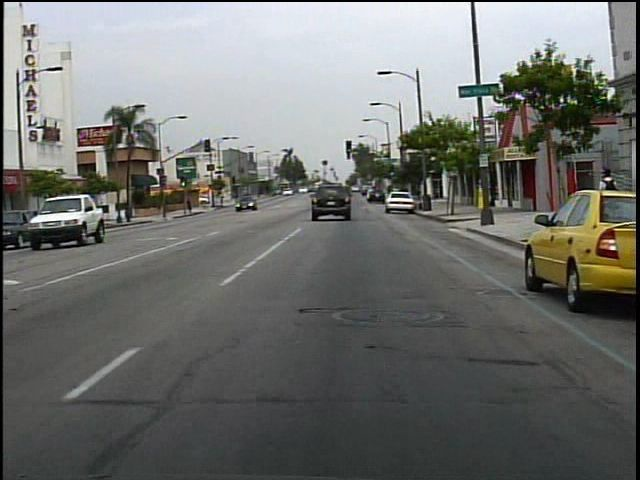person: (594, 162, 622, 209)
